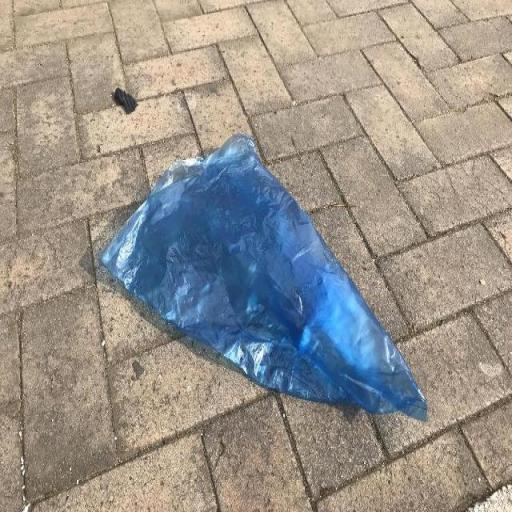plastic-bag: (98, 130, 432, 424)
